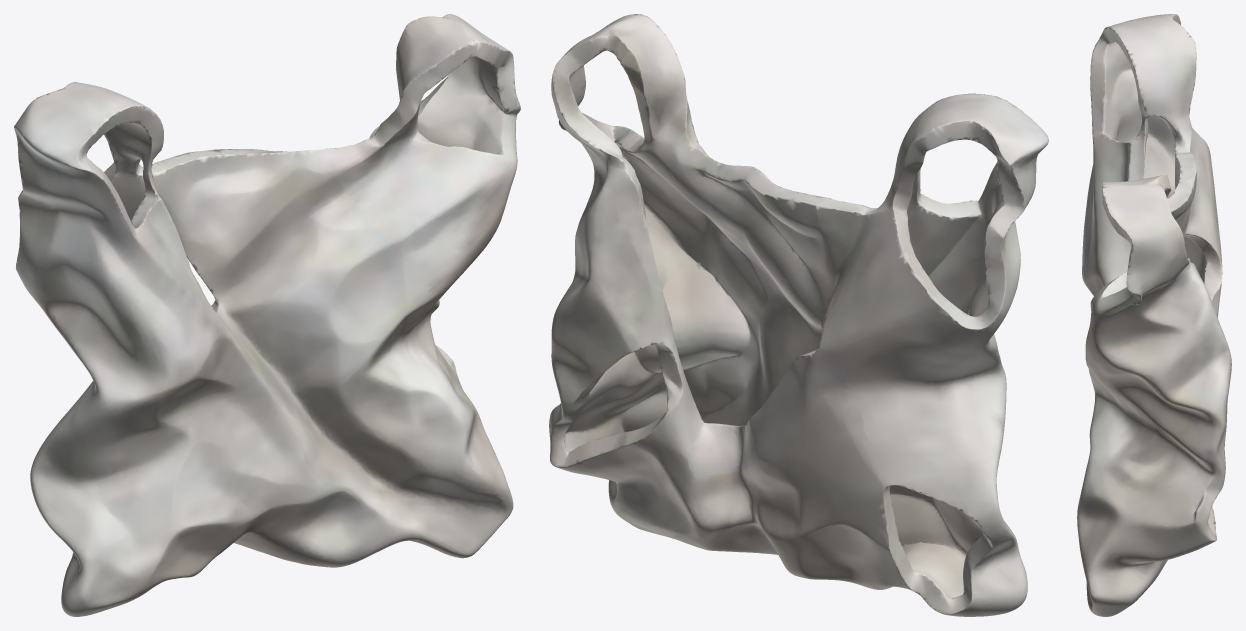
File: plastik-tuete.glb
The picture shows the model from 3 angles, left to right: view 1: azimuth 30°, elevation 25°; view 2: azimuth 150°, elevation 25°; view 3: azimuth 270°, elevation 25°; orthographic projection. The views are drawn at different scales.
Parts seen in each view (by area): view 1: plastik-tuete; view 2: plastik-tuete; view 3: plastik-tuete.
Boxes of the visible parts, x1,y1,x2,y2 form: plastik-tuete: [14, 14, 520, 616]; plastik-tuete: [549, 14, 1048, 616]; plastik-tuete: [1077, 14, 1231, 616].
Bounding box in the file's own units: 0.1218 × 0.1261 × 0.0395.
1 material, 1 textured.
